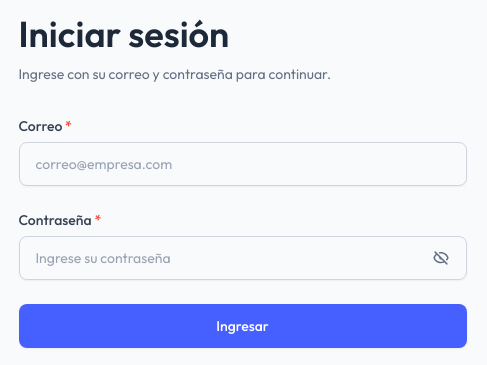
Test: SignInForm › mientras espera la respuesta, el botón dice “Ingresando…” y está desactivado
Type "admin@mollendo.pe" into the field with placeholder "correo@empresa.com" at coordinates (242, 164), box [18,142,466,186]
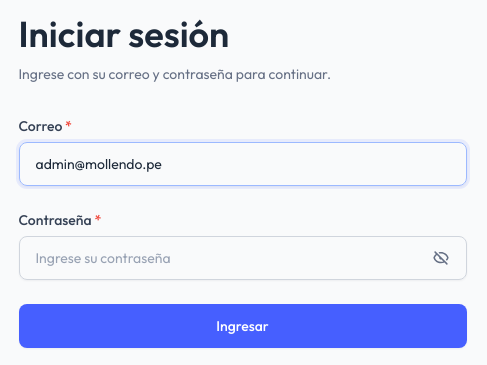
Type "Clave-123" into the password field with placeholder "Ingrese su contraseña" at coordinates (242, 258), box [18,236,466,280]
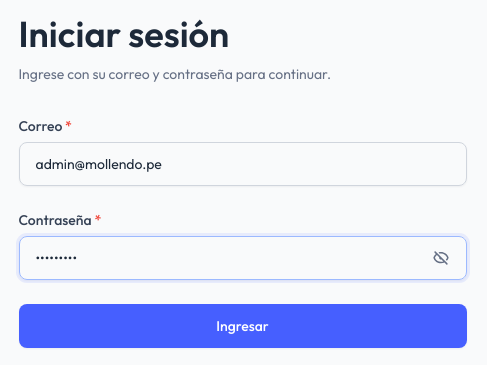
Click the button "Ingresar" at coordinates (242, 326), box [18,304,466,348]
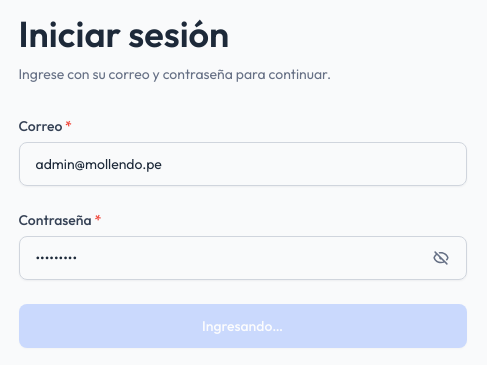
Expected: the button "Ingresando…" is disabled, [18,304,466,348]
